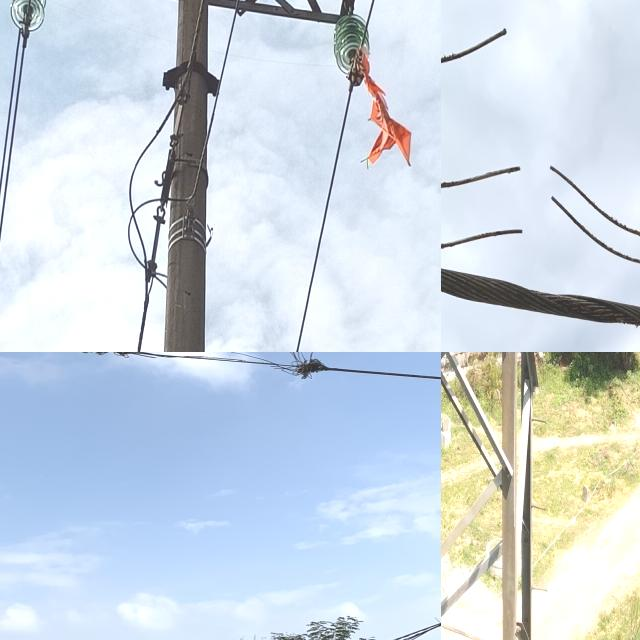杆塔: (441, 352, 555, 640)
植被遮挡: (348, 52, 416, 169)
正常绝缘子: (328, 2, 377, 92), (3, 0, 53, 36)
电缆破损: (441, 145, 640, 332), (0, 352, 361, 390)
